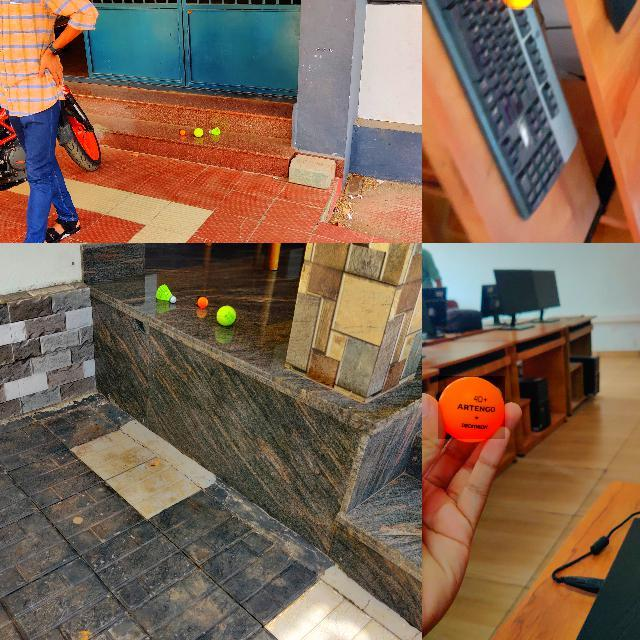ping-pong-ball: (438, 376, 506, 440), (505, 0, 535, 10), (197, 296, 207, 308), (179, 128, 185, 136)
